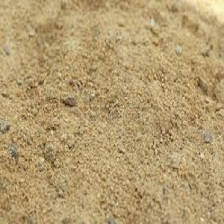sandy_soil: (8, 21, 215, 208)
